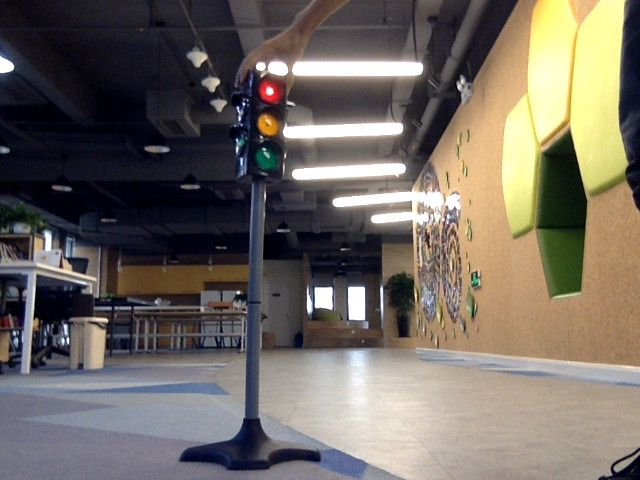red: (249, 77, 282, 174)
